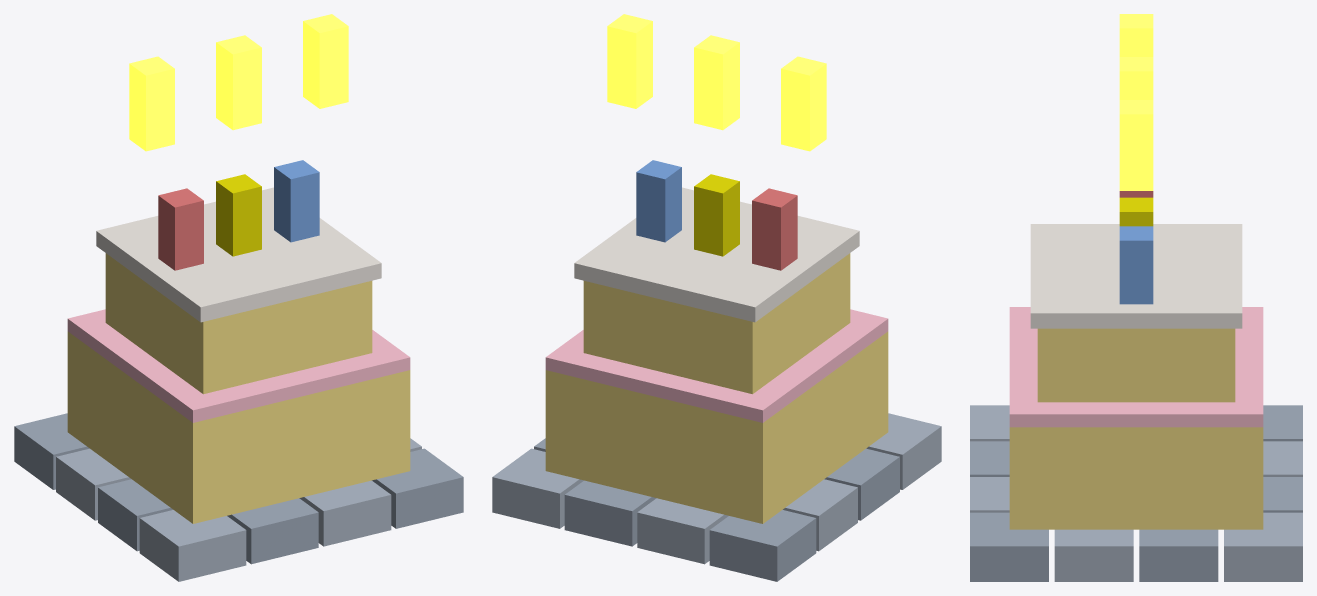
Rendered from birthday_cake_01.glb.
3 renders of one model, left to right at view 1: azimuth 30°, elevation 25°; view 2: azimuth 150°, elevation 25°; view 3: azimuth 270°, elevation 25°, orthographic.
Parts seen in each view (by area): view 1: cake_tier1, cake_tier2, cake_frosting, cake_filling, plat_0_0, plat_0_3, plat_0_2, plat_0_1, flame_candle_r, flame_candle_y, flame_candle_b, candle_candle_r (+5 smaller); view 2: cake_tier1, cake_tier2, cake_frosting, cake_filling, plat_3_0, plat_3_3, plat_3_2, plat_3_1, flame_candle_r, flame_candle_y, flame_candle_b, candle_candle_r (+5 smaller); view 3: cake_tier1, cake_frosting, cake_tier2, cake_filling, plat_0_3, plat_3_3, plat_1_3, plat_2_3, flame_candle_b, candle_candle_b, flame_candle_r, flame_candle_y (+7 smaller).
Boxes of the visible parts, bbox=[...] form: cake_tier1: bbox=[67, 331, 410, 523]; cake_tier2: bbox=[105, 253, 372, 394]; cake_frosting: bbox=[96, 187, 381, 322]; cake_filling: bbox=[67, 309, 410, 422]; plat_0_0: bbox=[139, 510, 246, 581]; plat_0_3: bbox=[372, 448, 463, 528]; plat_0_2: bbox=[299, 480, 391, 546]; plat_0_1: bbox=[227, 498, 318, 564]; flame_candle_r: bbox=[129, 56, 174, 151]; flame_candle_y: bbox=[216, 35, 261, 130]; flame_candle_b: bbox=[303, 14, 348, 108]; candle_candle_r: bbox=[158, 188, 203, 270]; cake_tier1: bbox=[545, 331, 888, 523]; cake_tier2: bbox=[583, 253, 850, 394]; cake_frosting: bbox=[574, 187, 859, 322]; cake_filling: bbox=[545, 309, 888, 422]; plat_3_0: bbox=[709, 510, 816, 581]; plat_3_3: bbox=[492, 448, 583, 528]; plat_3_2: bbox=[564, 480, 656, 546]; plat_3_1: bbox=[637, 498, 728, 564]; flame_candle_r: bbox=[781, 56, 826, 151]; flame_candle_y: bbox=[694, 35, 739, 130]; flame_candle_b: bbox=[607, 14, 652, 108]; candle_candle_r: bbox=[752, 188, 797, 270]; cake_tier1: bbox=[1009, 427, 1263, 529]; cake_frosting: bbox=[1030, 224, 1242, 328]; cake_tier2: bbox=[1037, 328, 1235, 402]; cake_filling: bbox=[1009, 307, 1263, 427]; plat_0_3: bbox=[970, 512, 1048, 581]; plat_3_3: bbox=[1224, 512, 1302, 581]; plat_1_3: bbox=[1054, 529, 1133, 581]; plat_2_3: bbox=[1139, 529, 1218, 581]; flame_candle_b: bbox=[1119, 100, 1153, 190]; candle_candle_b: bbox=[1119, 226, 1153, 304]; flame_candle_r: bbox=[1119, 14, 1153, 56]; flame_candle_y: bbox=[1119, 57, 1153, 99].
Size of the model in its own units: 0.118 by 0.175 by 0.118.
